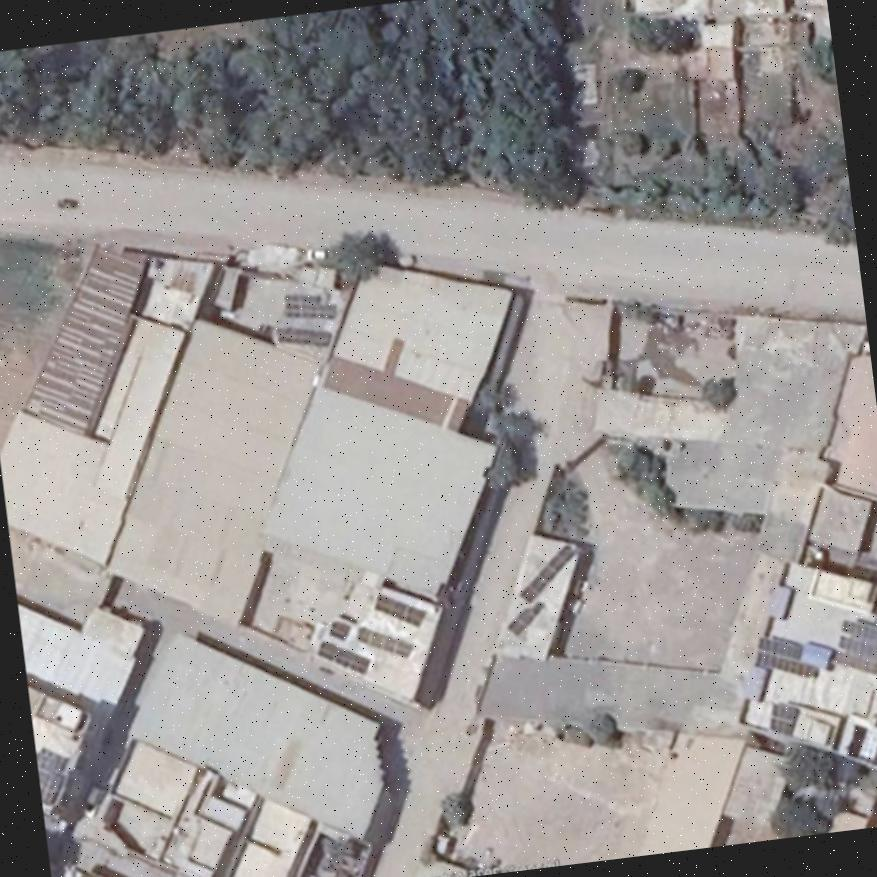Solarpanel: (520, 546, 576, 603), (756, 639, 820, 676), (832, 618, 877, 668), (374, 591, 425, 624), (36, 744, 65, 801), (317, 642, 369, 673), (284, 295, 329, 317), (507, 606, 536, 637), (276, 328, 330, 342), (771, 705, 797, 731)
